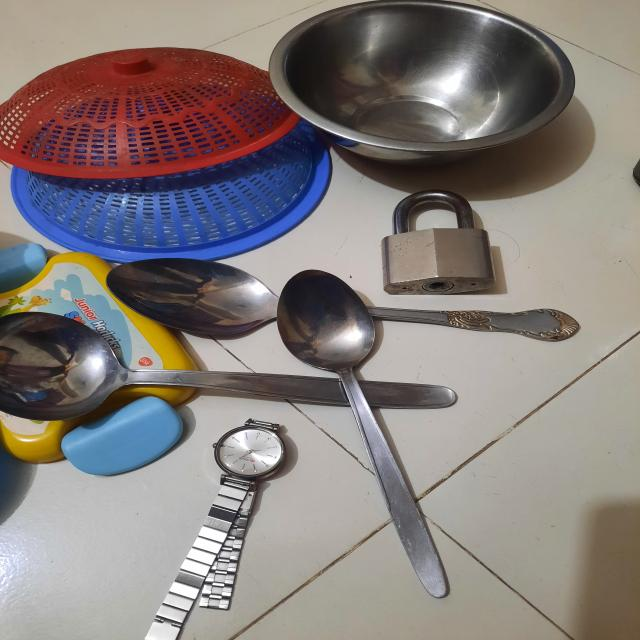E-waste: (151, 426, 296, 640)
Metal: (44, 195, 564, 423), (281, 0, 565, 173)
Plastics: (11, 22, 279, 238)
